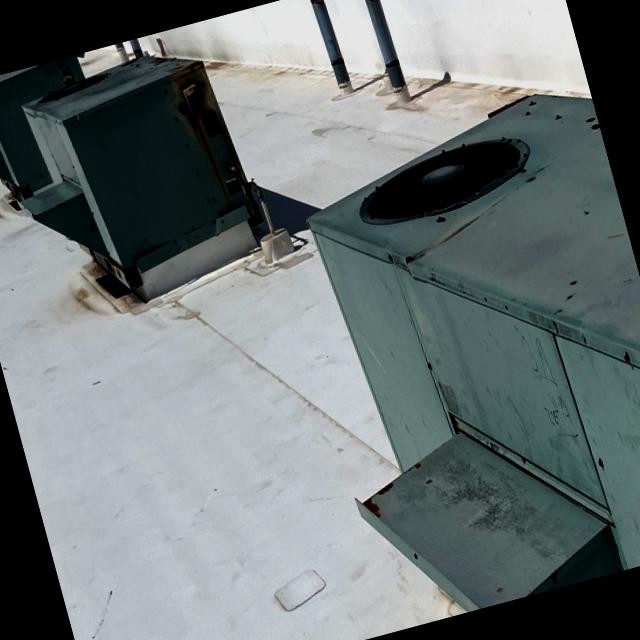RTU: (259, 64, 640, 633), (0, 17, 282, 323), (0, 52, 120, 230)
